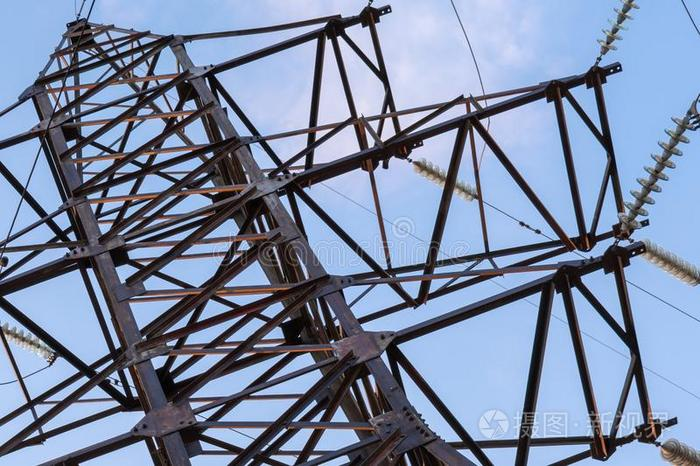insulator: (619, 119, 697, 228), (416, 156, 482, 202), (639, 242, 700, 283), (597, 1, 637, 53), (1, 321, 54, 358), (656, 439, 700, 465)
